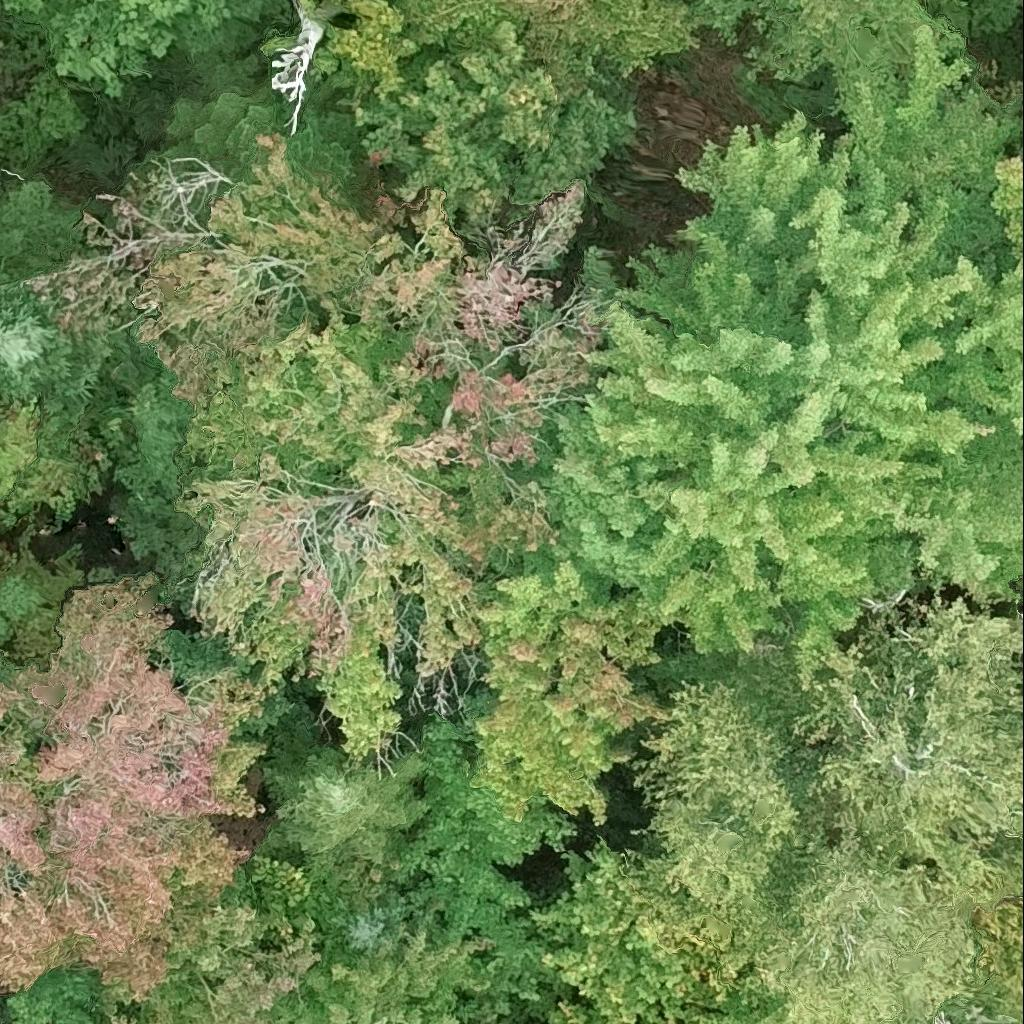crown: (587, 30, 1023, 688), (159, 176, 619, 763), (7, 573, 276, 1003), (27, 132, 430, 408), (399, 560, 670, 919), (792, 592, 1023, 911), (630, 624, 832, 980), (356, 19, 639, 245), (173, 296, 457, 500), (768, 808, 992, 1023), (527, 841, 773, 1023), (299, 0, 700, 97), (134, 853, 349, 1023), (524, 374, 674, 605), (260, 910, 541, 1023), (690, 0, 966, 104), (0, 178, 108, 426), (0, 689, 78, 991), (265, 748, 424, 866), (45, 0, 231, 95), (332, 878, 435, 957), (964, 889, 1023, 1023), (683, 976, 793, 1023), (992, 157, 1023, 256), (547, 998, 615, 1023), (147, 999, 179, 1023), (4, 0, 44, 11), (103, 1014, 136, 1023), (636, 1017, 660, 1023)
